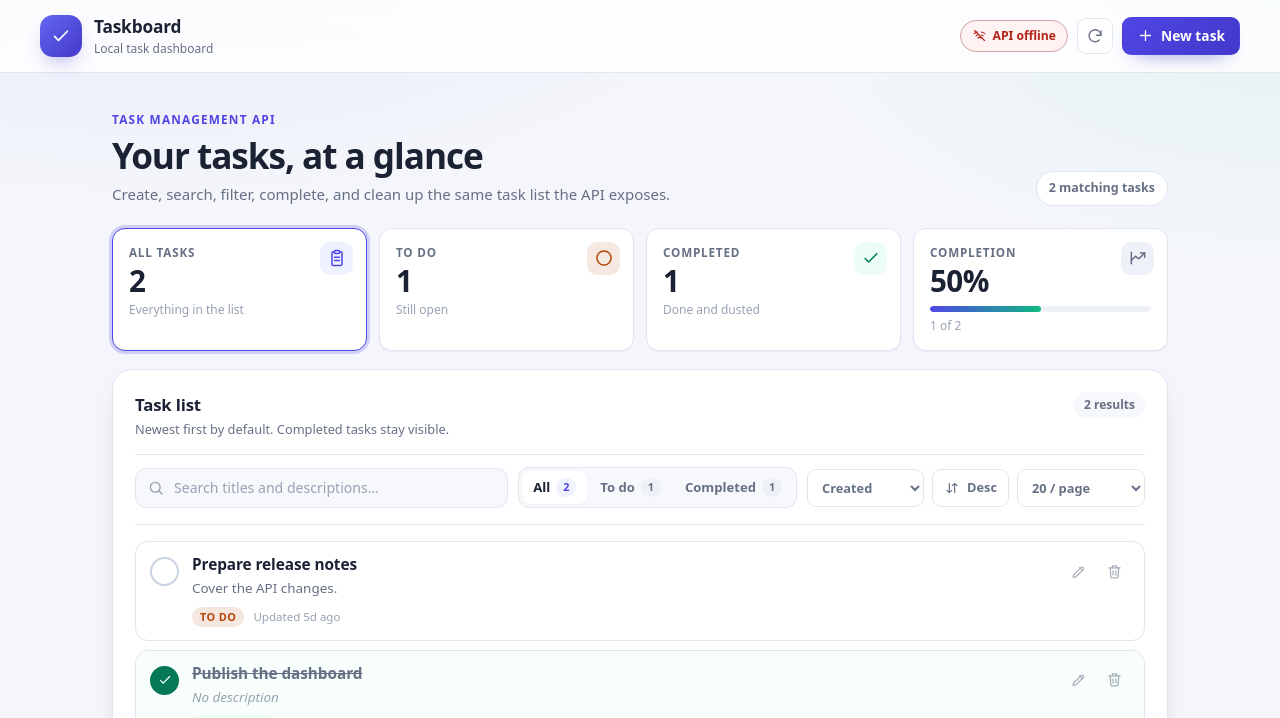
App › creates a task and refreshes the list
The width and height of the screenshot is (1280, 718).
Check: the heading "Prepare release notes" is shown, box [192, 554, 357, 575]
Click the button "New task".
click(1181, 36)  # box [1122, 17, 1240, 55]
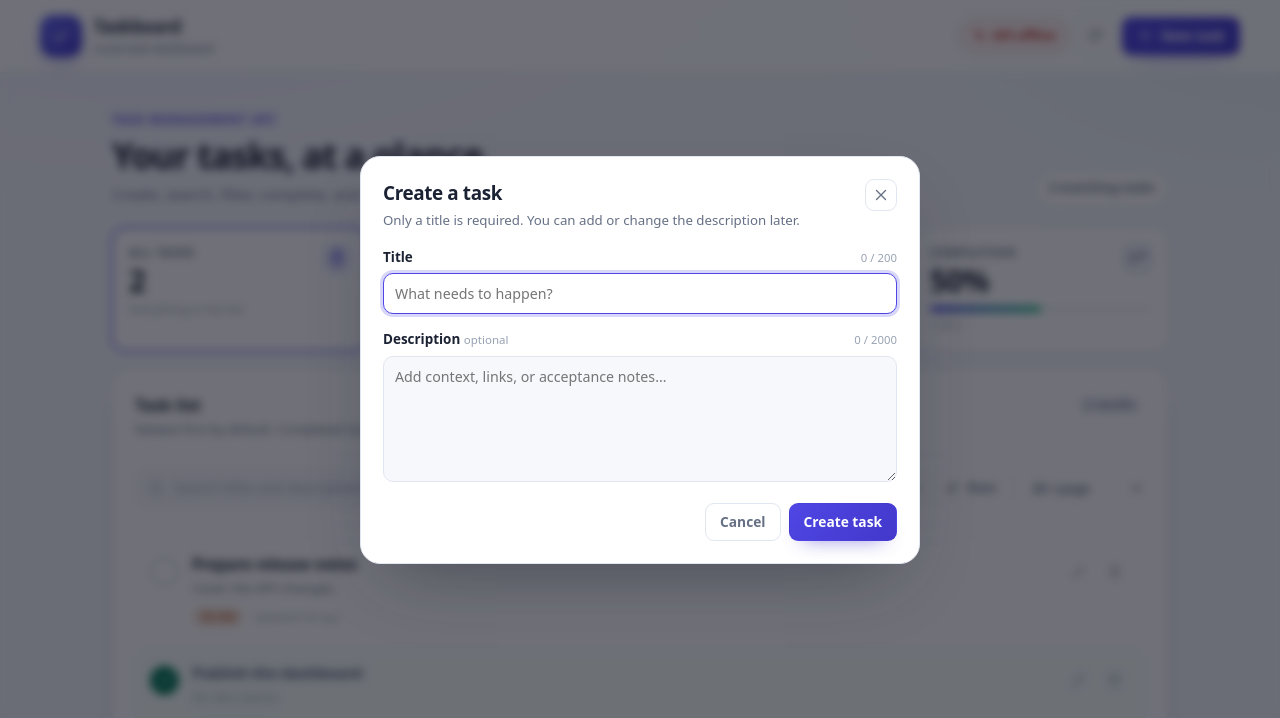
Check: the heading "Create a task" is shown, box [383, 180, 502, 206]
Type "Ship the dashboard" into the field labelled "Title".
click(640, 294); type("Ship the dashboard")  # box [383, 273, 897, 314]
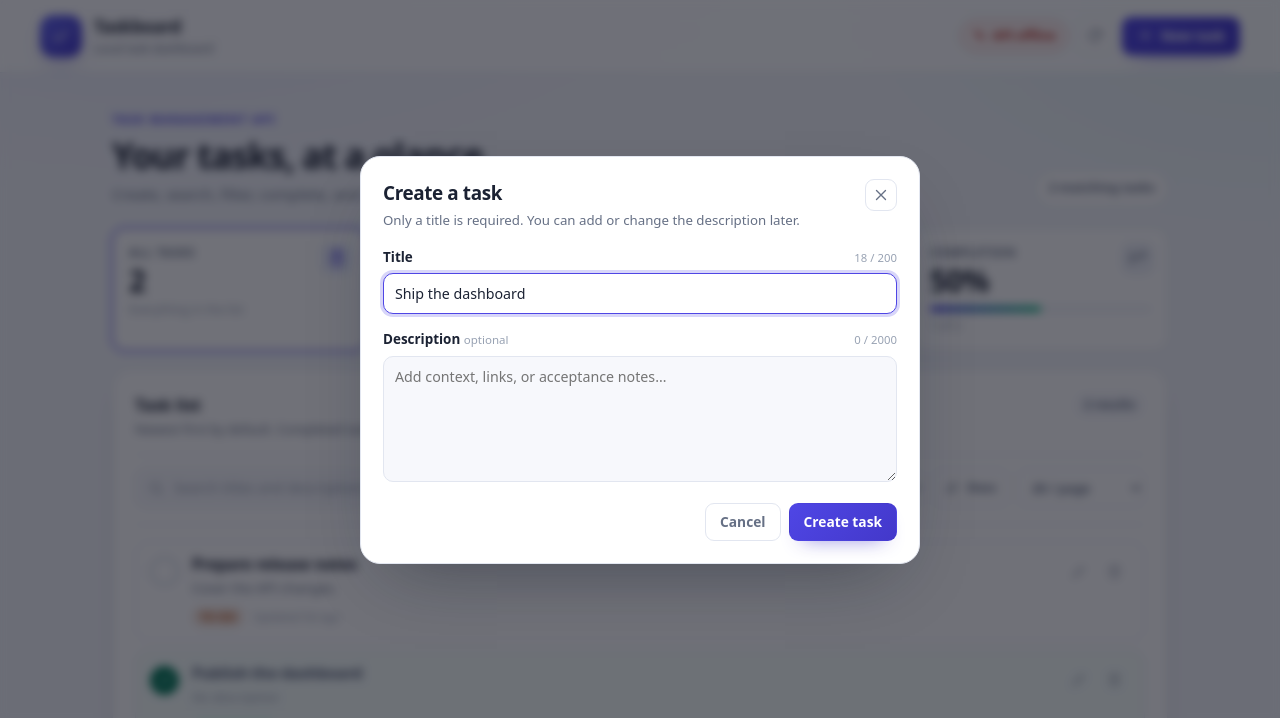
Type "Wire it to the local API." into the text box labelled "Description optional".
click(640, 419); type("Wire it to the local API.")  # box [383, 356, 897, 482]
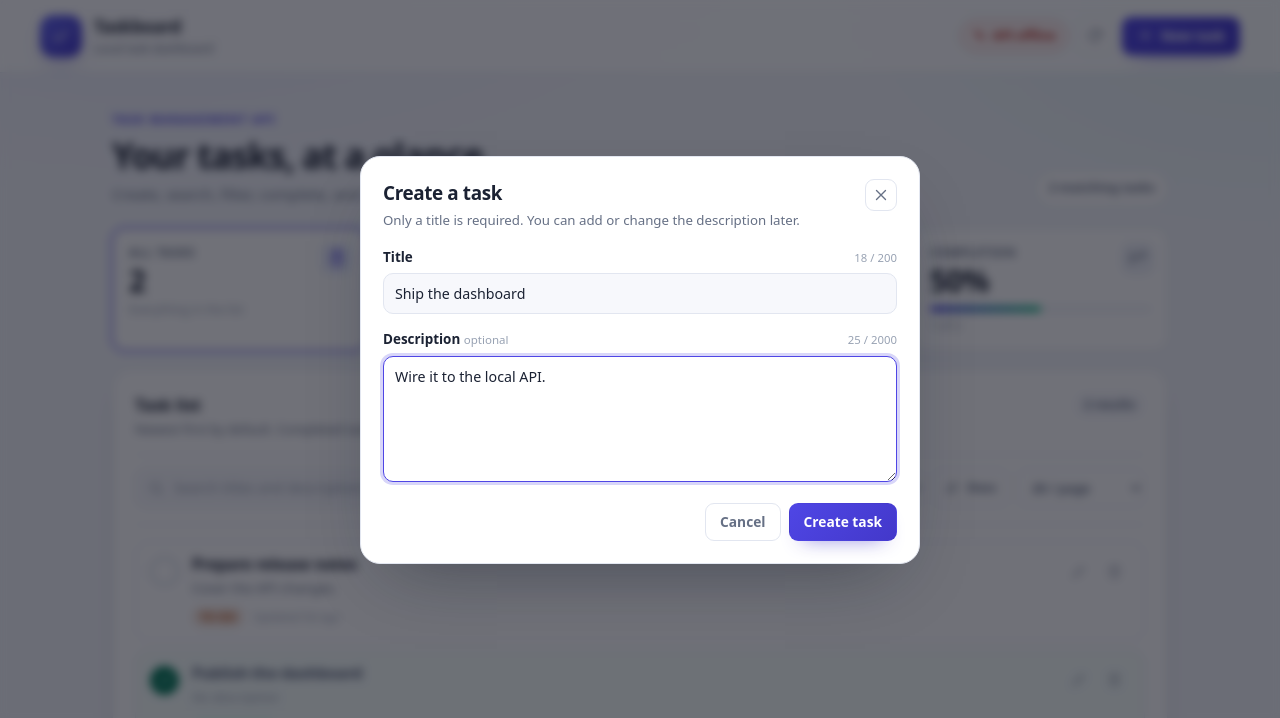
Click the button "Create task".
click(843, 522)  # box [788, 503, 897, 541]
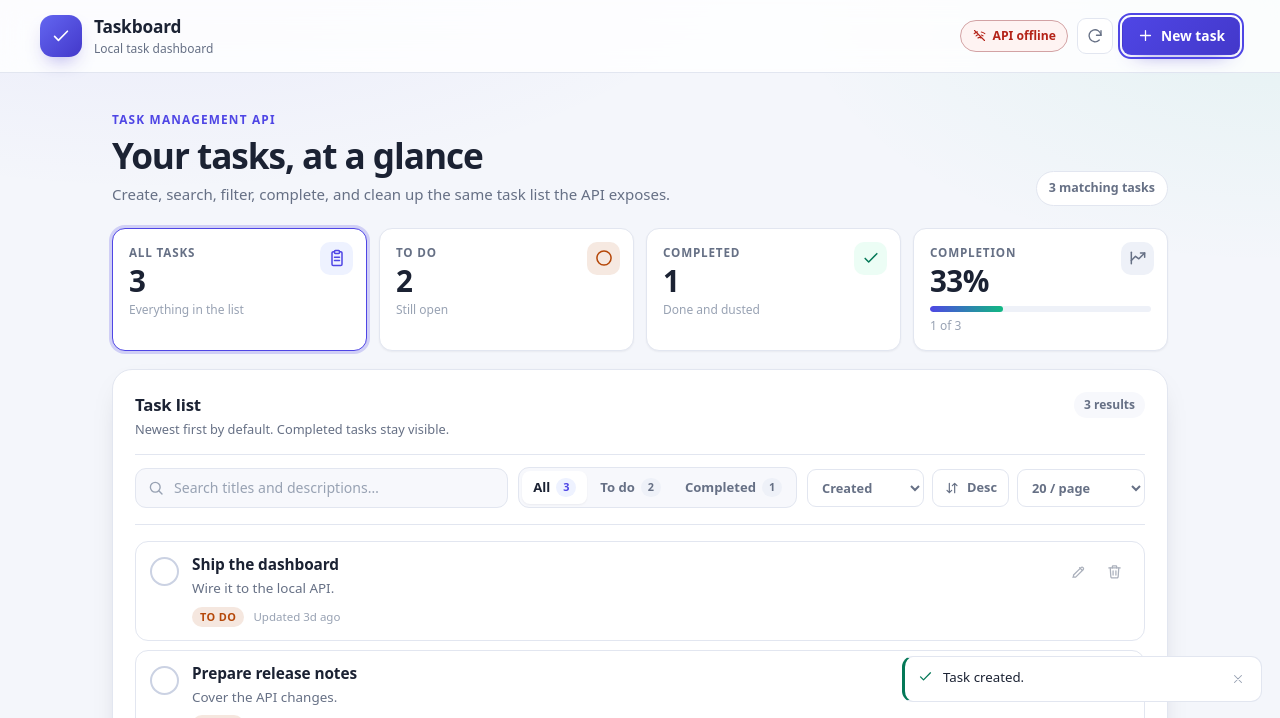
Check: the text "Task created." is shown, box [943, 668, 1024, 686]
Check: the heading "Ship the dashboard" is shown, box [192, 554, 339, 575]
